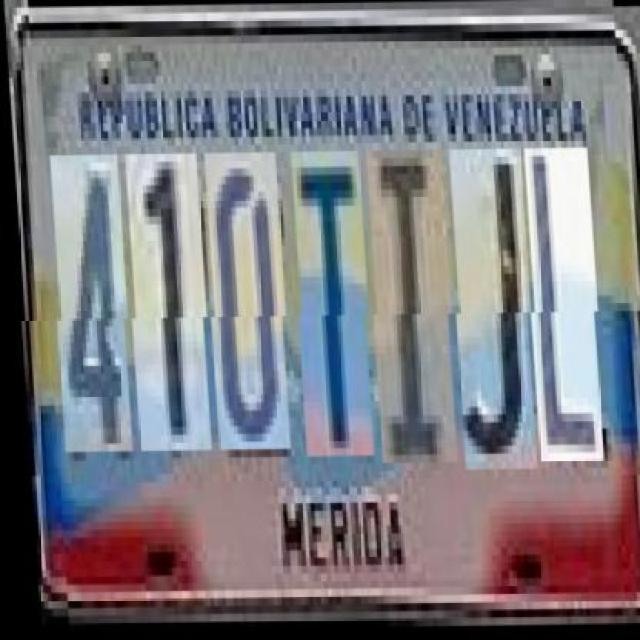0: (201, 154, 288, 451)
1: (122, 154, 210, 452)
4: (48, 156, 130, 452)
i: (364, 150, 454, 464)
j: (447, 150, 535, 472)
l: (522, 148, 602, 462)
t: (288, 152, 372, 457)
